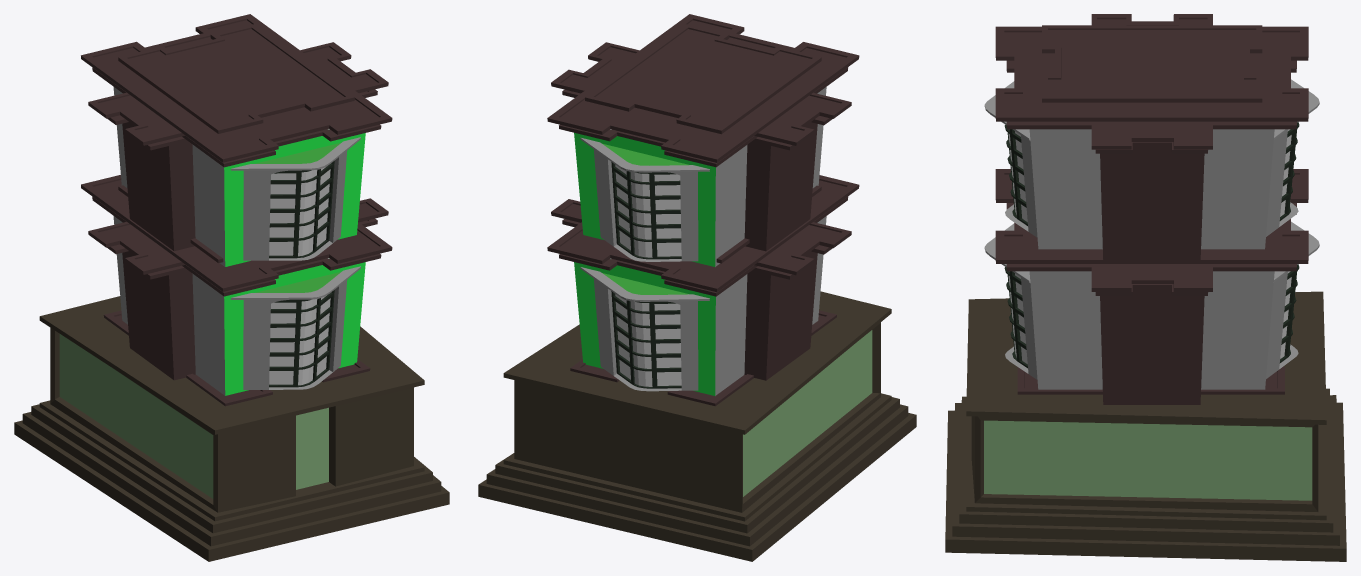
The model's file is Hotel Building medium.FBX.
The picture shows the model from 3 angles, left to right: view 1: azimuth 30°, elevation 25°; view 2: azimuth 150°, elevation 25°; view 3: azimuth 270°, elevation 25°; orthographic projection. The views are drawn at different scales.
Parts seen in each view (by area): view 1: Hotel Building#1; view 2: Hotel Building#1; view 3: Hotel Building#1.
Part boxes in pixels (bbox=[...]): Hotel Building#1: bbox=[14, 14, 449, 561]; Hotel Building#1: bbox=[478, 14, 916, 561]; Hotel Building#1: bbox=[945, 14, 1346, 561].
Size of the model in its own units: 23.31 by 31.7 by 27.02.
